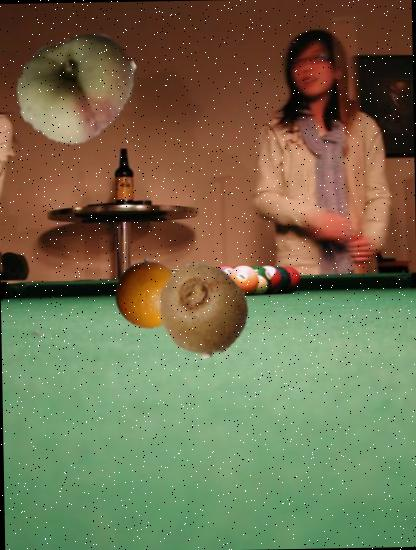Kiwi: (155, 260, 254, 358)
Orange: (113, 259, 183, 328)
Peach: (14, 24, 140, 150)
